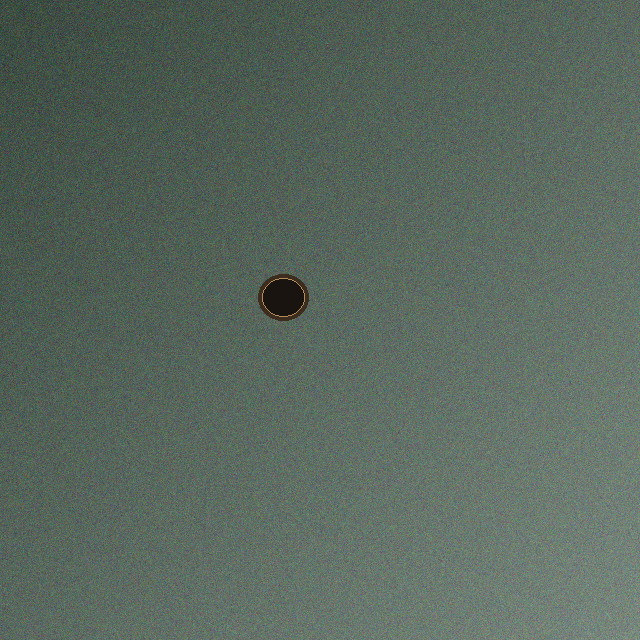defect: (254, 270, 312, 324)
